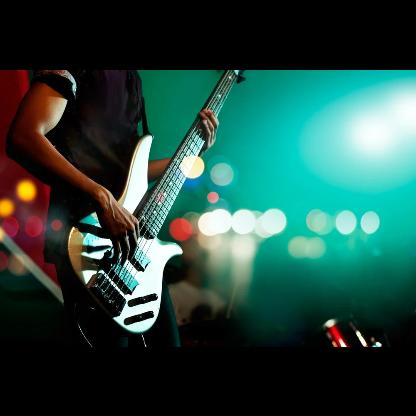bass: (65, 70, 247, 334)
